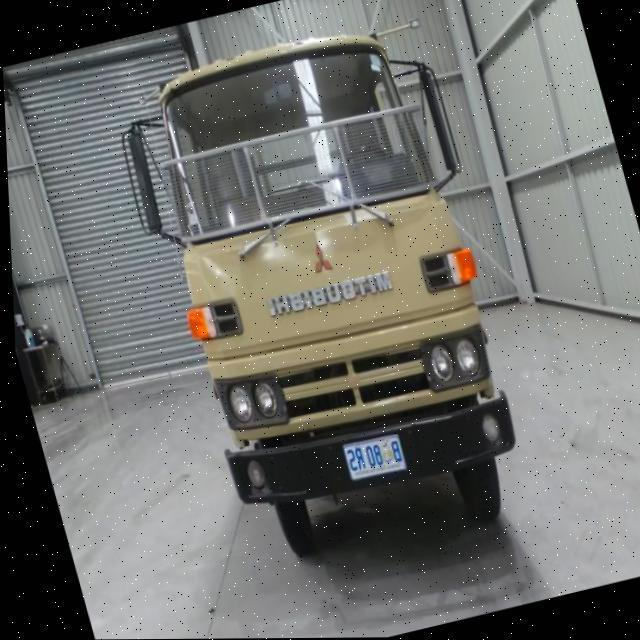truck: (94, 0, 551, 585)
